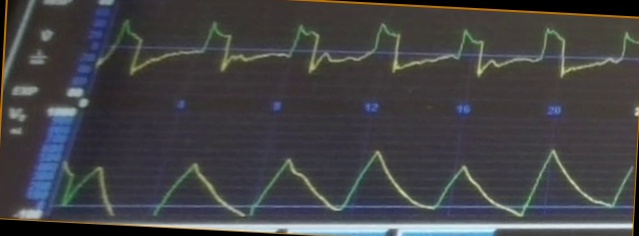Premature_cycling Flow: (108, 18, 637, 92)
Premature_cycling Volume: (64, 147, 630, 215)
